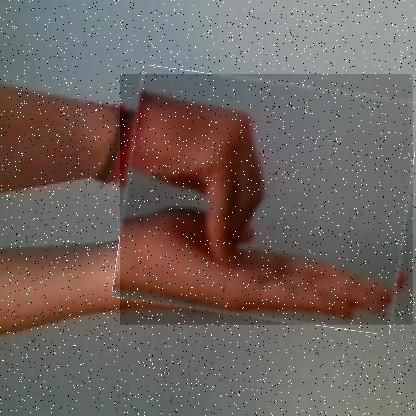Z: (120, 74, 414, 326)
